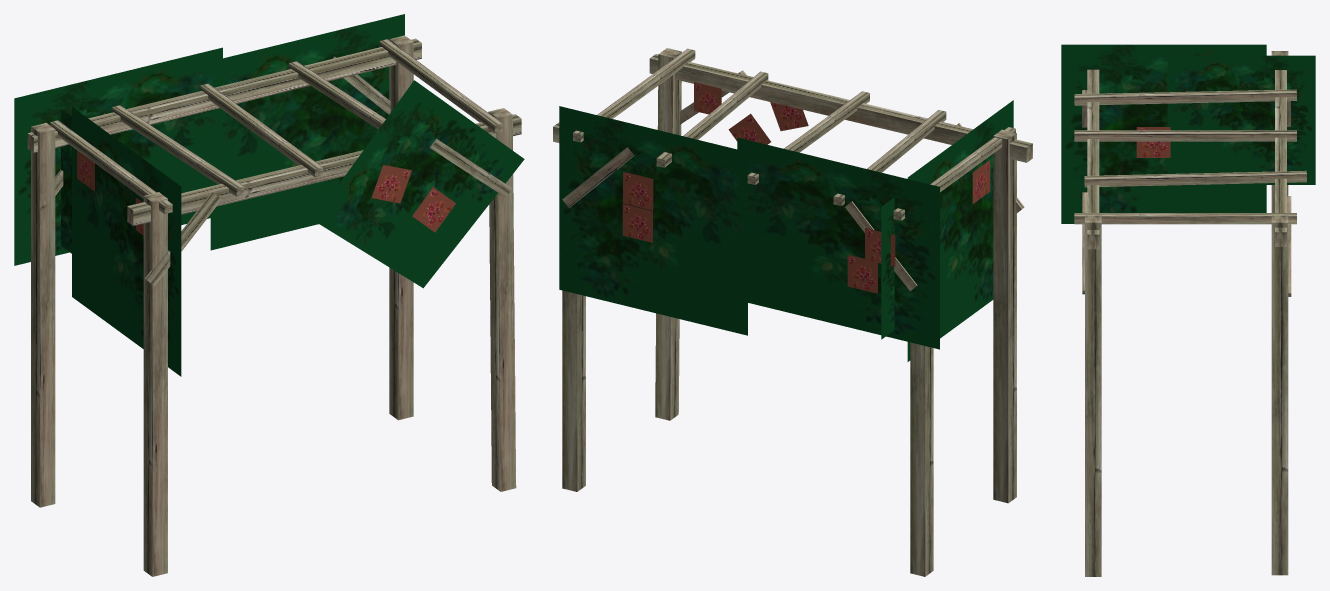
The model's file is trellisB.fbx.
The picture shows the model from 3 angles, left to right: view 1: azimuth 30°, elevation 25°; view 2: azimuth 150°, elevation 25°; view 3: azimuth 270°, elevation 25°; orthographic projection. The views are drawn at different scales.
Visible parts, largest first — view 1: foliage1, foliage4, foliage5, foliage3, post_vert3, post_vert2, post_vert1, post_horz2, post_vert4, post_horz1, lath4, lath2 (+9 smaller); view 2: foliage4, foliage5, foliage3, post_vert2, post_horz1, post_vert3, post_vert4, post_vert1, foliage6, lath2, lath5, lath3 (+12 smaller); view 3: foliage3, foliage6, post_vert4, post_vert1, lath5, lath4, lath3, lath2, post_horz1, post_horz2, foliage19, support4 (+1 smaller).
Boxes of the visible parts, box(x1,y1,x2,y2) form: foliage1: box(313, 80, 524, 288); foliage4: box(210, 14, 404, 250); foliage5: box(14, 47, 222, 265); foliage3: box(72, 107, 181, 376); post_vert3: box(31, 123, 55, 507); post_vert2: box(143, 192, 167, 576); post_vert1: box(488, 108, 516, 491); post_horz2: box(27, 38, 421, 153); post_vert4: box(389, 35, 413, 420); post_horz1: box(127, 114, 521, 226); lath4: box(112, 105, 244, 196); lath2: box(379, 39, 502, 133); foliage4: box(559, 106, 747, 335); foliage5: box(737, 137, 939, 349); foliage3: box(907, 100, 1013, 361); post_vert2: box(993, 129, 1016, 503); post_horz1: box(649, 54, 1032, 162); post_vert3: box(910, 342, 933, 576); post_vert4: box(562, 290, 585, 491); post_vert1: box(655, 48, 681, 420); foliage6: box(881, 197, 894, 339); lath2: box(573, 48, 695, 142); lath5: box(656, 71, 768, 167); lath3: box(747, 91, 869, 184); foliage3: box(1061, 44, 1266, 223); foliage6: box(1167, 55, 1315, 184); post_vert4: box(1271, 215, 1288, 575); post_vert1: box(1085, 215, 1101, 576); lath5: box(1084, 170, 1306, 187); lath4: box(1074, 89, 1296, 105); lath3: box(1074, 130, 1296, 141); lath2: box(1074, 213, 1296, 224); post_horz1: box(1087, 69, 1099, 249); post_horz2: box(1275, 70, 1286, 246); foliage19: box(1136, 127, 1170, 157); support4: box(1287, 196, 1291, 296).
Bounding box in the file's own units: 2363 × 2438 × 1378.
2 materials, 2 textured.
